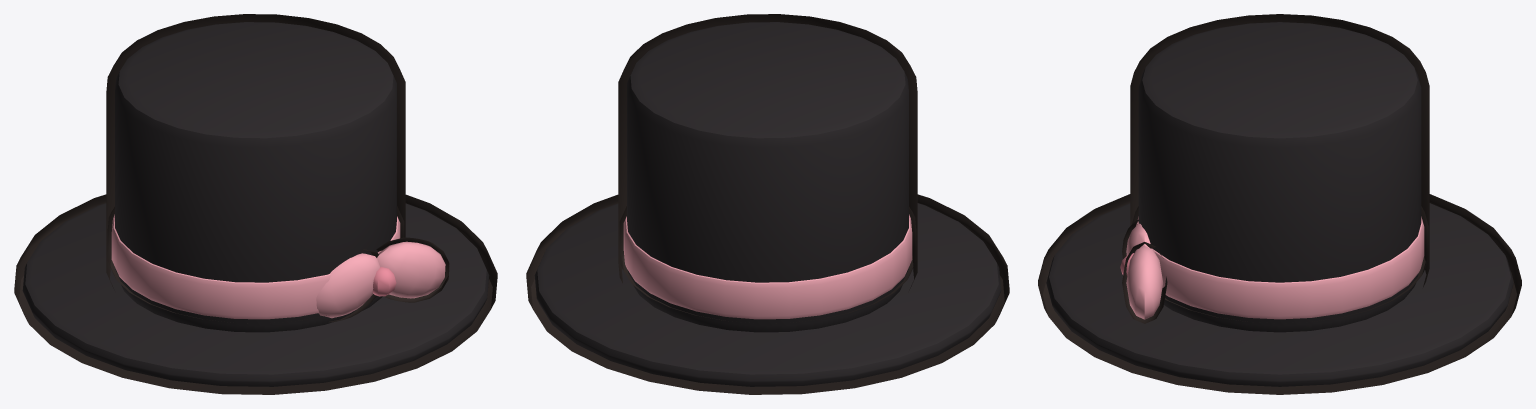
The model's file is hat_tophat.fbx.
3 renders of one model, left to right at view 1: azimuth 30°, elevation 25°; view 2: azimuth 150°, elevation 25°; view 3: azimuth 270°, elevation 25°, orthographic.
Parts seen in each view (by area): view 1: hat_tophat_C_2A2628, hat_tophat_Outline, hat_tophat_C_F4A7B4, hat_tophat_C_E8899A; view 2: hat_tophat_C_2A2628, hat_tophat_Outline, hat_tophat_C_F4A7B4; view 3: hat_tophat_C_2A2628, hat_tophat_Outline, hat_tophat_C_F4A7B4.
Boxes of the visible parts, x1,y1,x2,y2 form: hat_tophat_C_2A2628: (22, 22, 489, 386); hat_tophat_Outline: (14, 14, 497, 394); hat_tophat_C_F4A7B4: (111, 214, 445, 319); hat_tophat_C_E8899A: (372, 267, 396, 296); hat_tophat_C_2A2628: (534, 22, 1001, 386); hat_tophat_Outline: (526, 14, 1009, 394); hat_tophat_C_F4A7B4: (623, 214, 912, 319); hat_tophat_C_2A2628: (1046, 22, 1513, 386); hat_tophat_Outline: (1038, 14, 1521, 394); hat_tophat_C_F4A7B4: (1126, 216, 1424, 319).
Size of the model in its own units: 0.7875 by 0.4124 by 0.7875.
